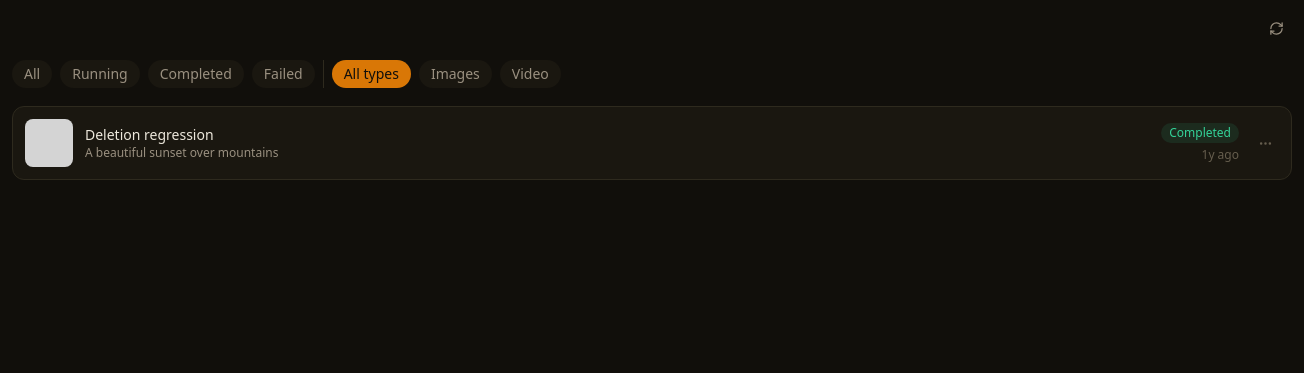
Test: handles DELETE 204 without losing a failed row
The image size is (1304, 373).
expect the text "Deletion regression" is shown: met, box [85, 125, 214, 144]
Step 1. Click the button named "Job actions" → (1265, 143), box [1251, 129, 1279, 157]
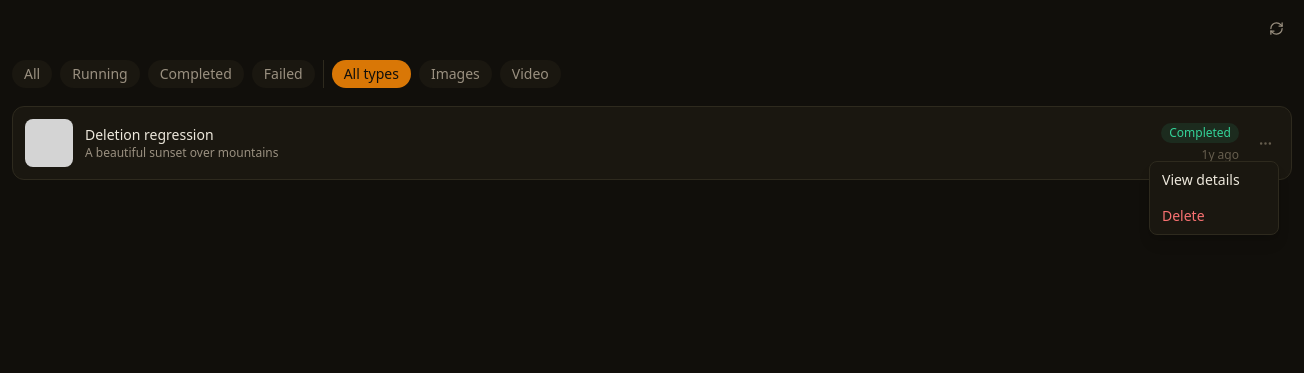
Step 2. Click the button "Delete" → (1214, 216), box [1150, 198, 1278, 234]
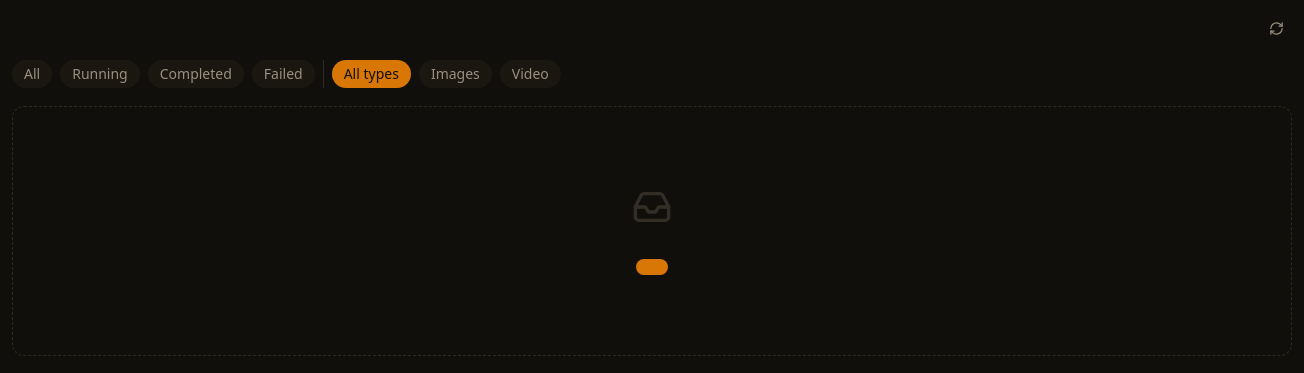
expect the link "Deletion regression" is gone: met
